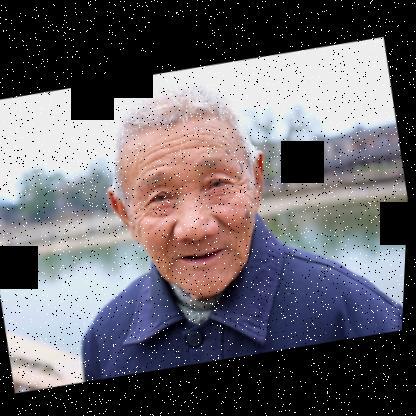Male: (93, 102, 290, 310)
